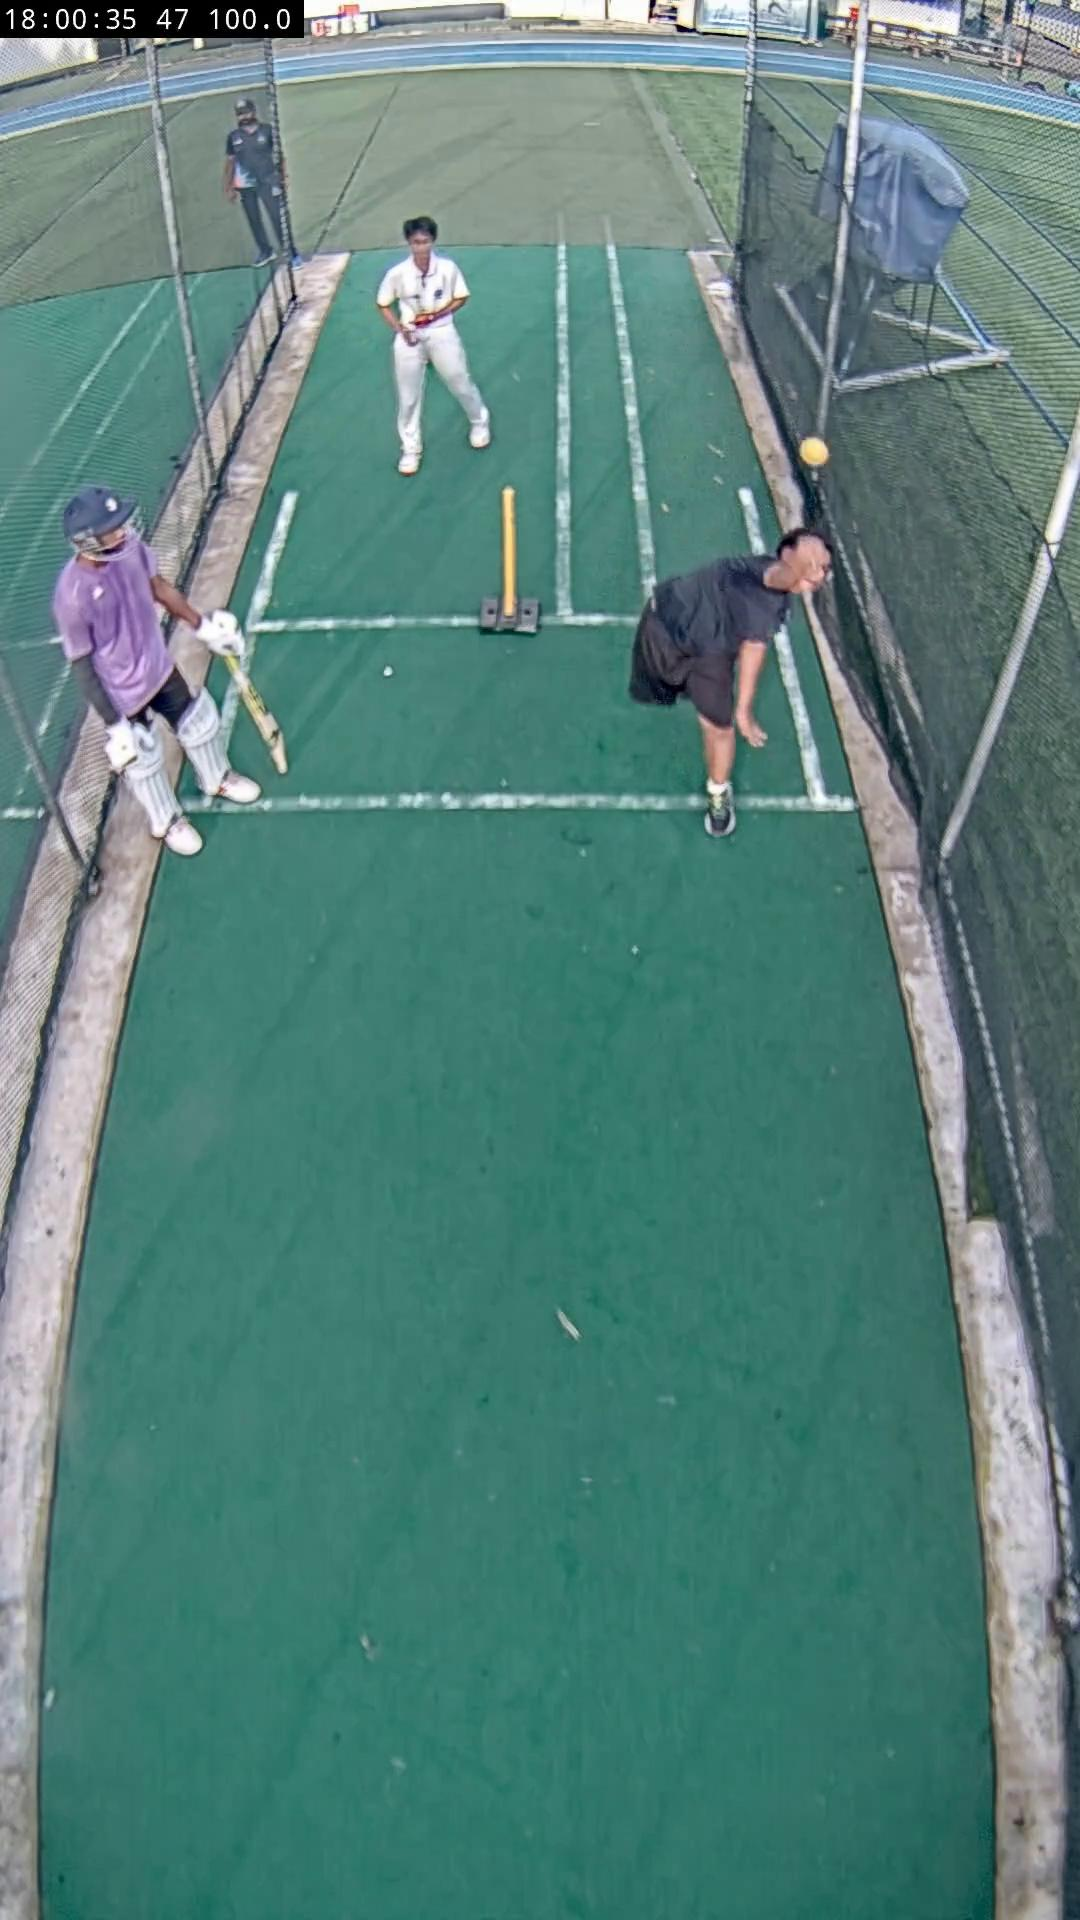ball: (799, 435, 828, 468)
stumps: (480, 488, 541, 634)
